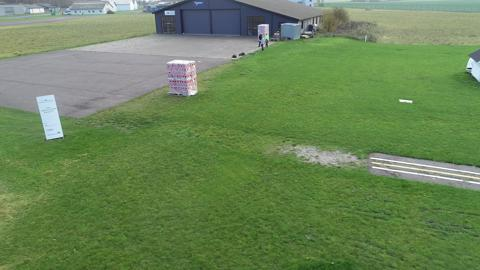RockwoolPallet: (257, 23, 270, 43)
